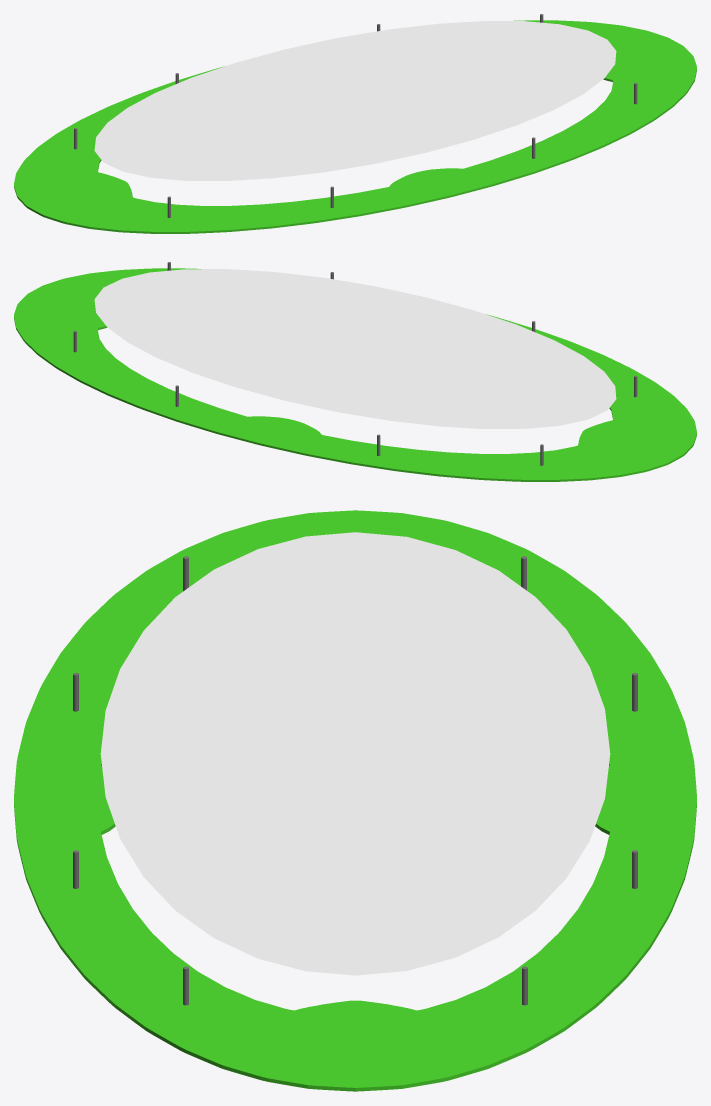
The model's file is Map.fbx.
The picture shows the model from 3 angles, top to bottom: view 1: azimuth 30°, elevation 25°; view 2: azimuth 150°, elevation 25°; view 3: azimuth 270°, elevation 25°; orthographic projection. The views are drawn at different scales.
Parts seen in each view (by area): view 1: Sphere, Cube; view 2: Sphere, Cube; view 3: Sphere, Cube.
Part boxes in pixels (x1,y1,x2,y2): Sphere: [94, 21, 616, 180]; Cube: [14, 20, 696, 233]; Sphere: [94, 269, 616, 428]; Cube: [14, 268, 696, 481]; Sphere: [100, 532, 610, 975]; Cube: [14, 510, 696, 1091].
Size of the model in its own units: 68396 by 2700 by 34180.
